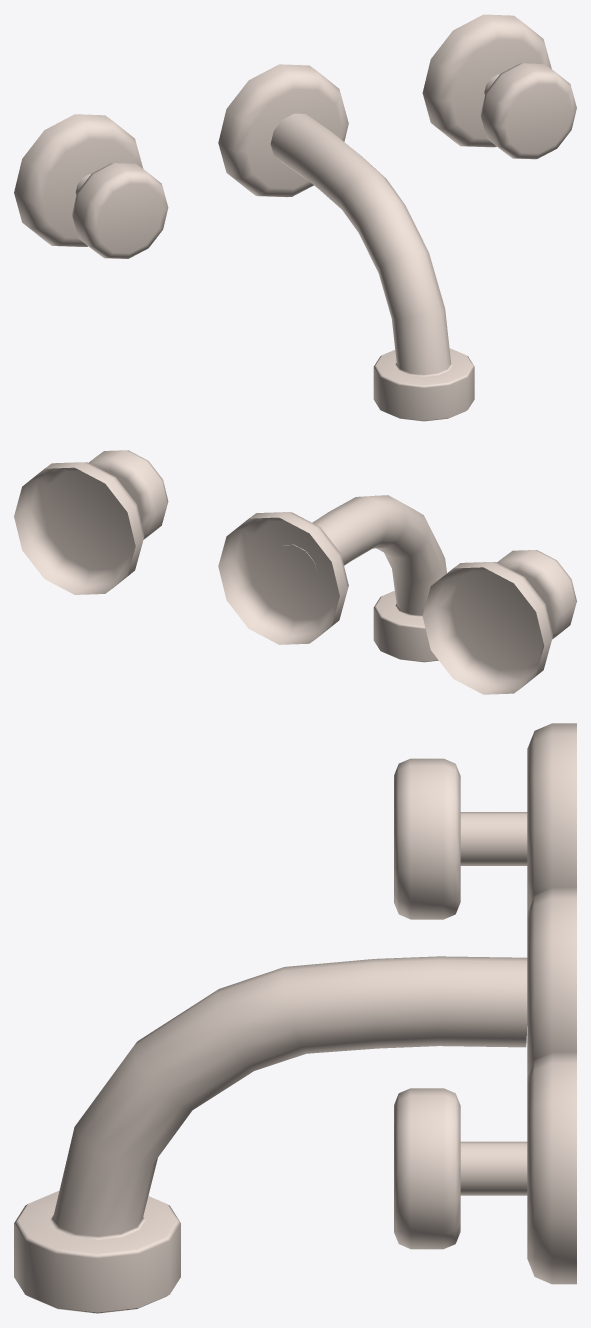
The model's file is Faucet_1.glb.
3 views of the same model, one above another, from view 1: azimuth 30°, elevation 25°; view 2: azimuth 150°, elevation 25°; view 3: azimuth 270°, elevation 25° (orthographic). The views are drawn at different scales.
Visible parts, largest first — view 1: Faucet_1; view 2: Faucet_1; view 3: Faucet_1.
Part boxes in pixels (<box>): Faucet_1: <box>14,14,576,421</box>; Faucet_1: <box>14,450,576,694</box>; Faucet_1: <box>14,723,576,1313</box>.
Size of the model in its own units: 0.7227 by 0.3006 by 0.4019.
Materials: 1 (1 with a texture image).
